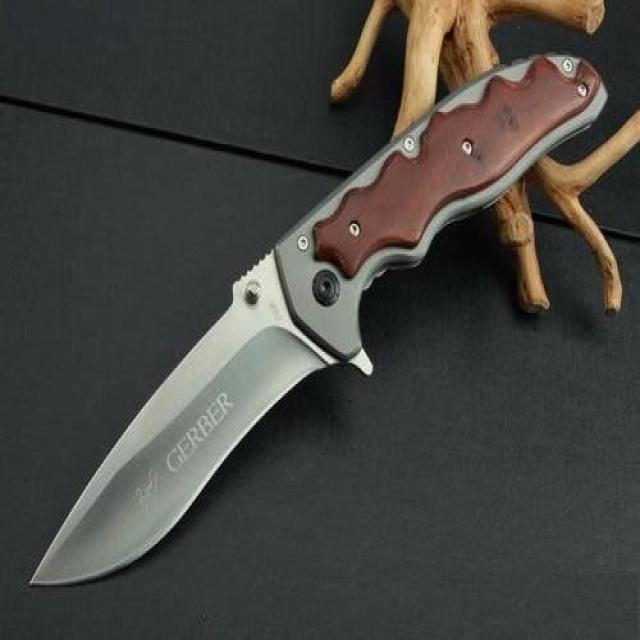knife: (23, 53, 608, 602)
